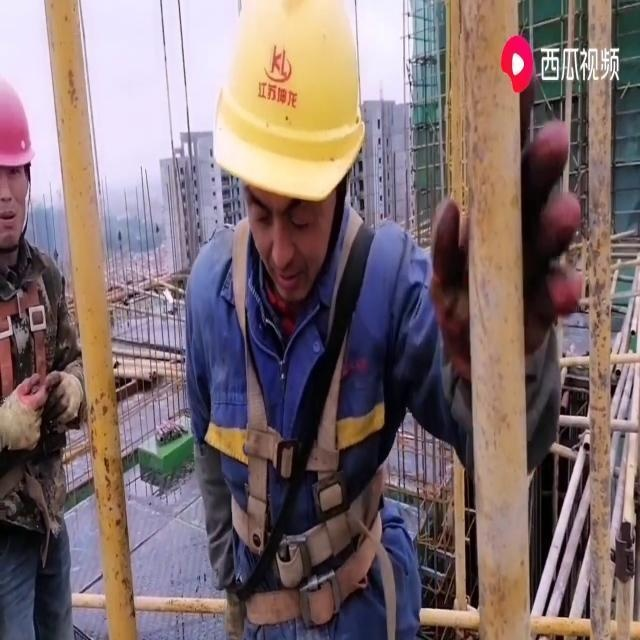Arnes_seguridad: (206, 202, 392, 580), (0, 231, 68, 400)
